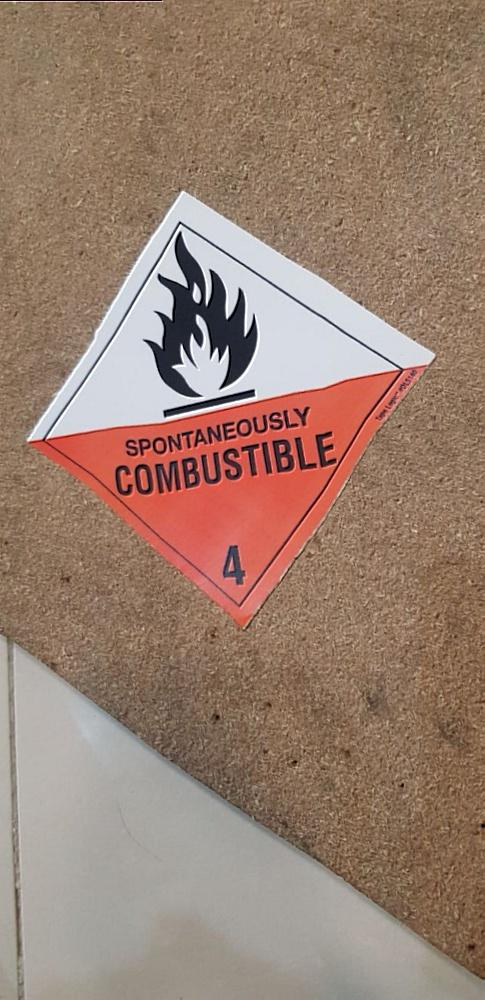spontaneously-combustible: (27, 188, 435, 621)
